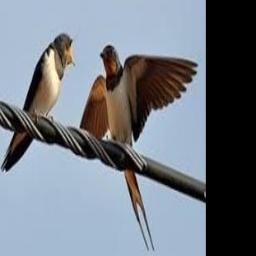Swallow: (78, 44, 198, 250), (0, 35, 75, 172)
